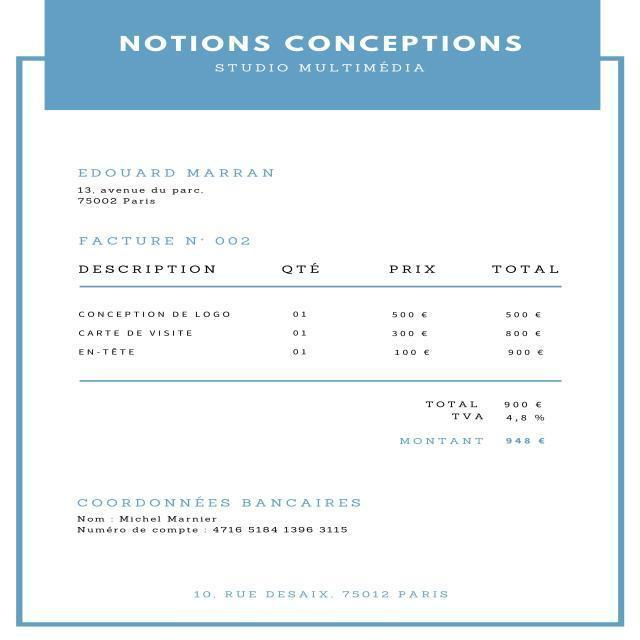paragraph: (110, 30, 539, 88), (64, 491, 365, 545), (68, 164, 288, 212), (394, 395, 555, 455), (183, 583, 462, 605), (67, 227, 263, 252)
table: (65, 259, 577, 374)
